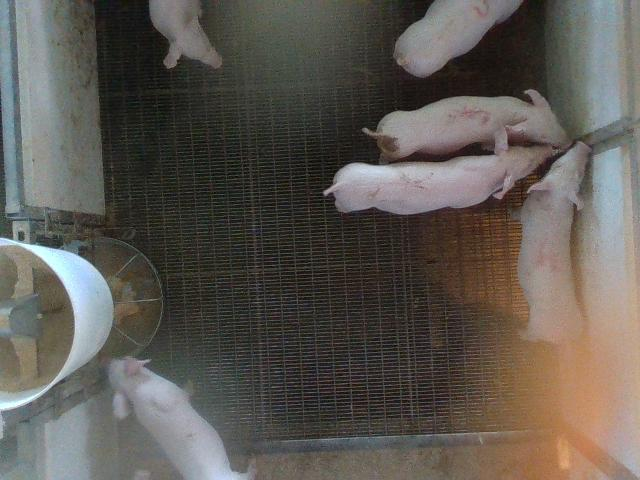pig-4: (518, 141, 591, 343)
pig-5: (362, 90, 568, 161)
